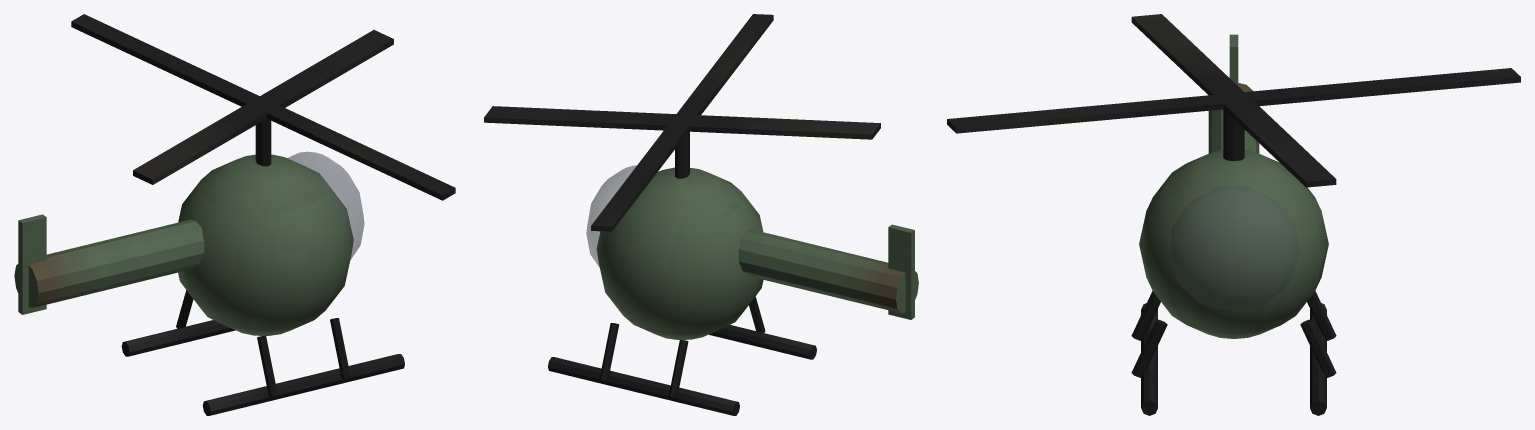
The model's file is TY24_ToyHelicopter.glb.
3 renders of one model, left to right at view 1: azimuth 30°, elevation 25°; view 2: azimuth 150°, elevation 25°; view 3: azimuth 270°, elevation 25°, orthographic. The views are drawn at different scales.
Parts seen in each view (by area): view 1: TY24_ToyHelicopter; view 2: TY24_ToyHelicopter; view 3: TY24_ToyHelicopter.
Part boxes in pixels (bbox=[...]): TY24_ToyHelicopter: bbox=[14, 14, 455, 415]; TY24_ToyHelicopter: bbox=[484, 14, 918, 415]; TY24_ToyHelicopter: bbox=[947, 14, 1520, 415].
Size of the model in its own units: 0.2566 by 0.155 by 0.3.
3 materials, 3 textured.
